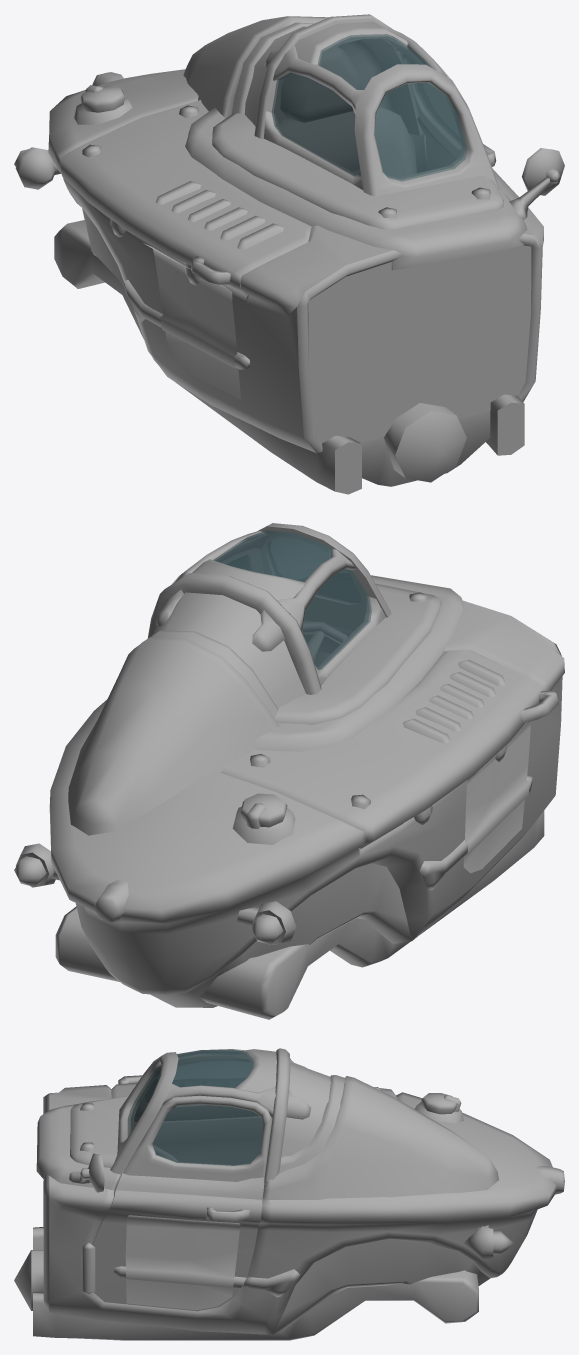
The model's file is Body_Airplane.fbx.
3 views of the same model, one above another, from view 1: azimuth 30°, elevation 25°; view 2: azimuth 150°, elevation 25°; view 3: azimuth 270°, elevation 25° (orthographic). The views are drawn at different scales.
Parts seen in each view (by area): view 1: Airplane_Body, Airplane_Body_Window, Airplane_Body_Right_Decal, Airplane_Body_Door_Left, Airplane_Body_Door_Left_Window; view 2: Airplane_Body, Airplane_Body_Window, Airplane_Body_Right_Decal, Airplane_Body_SteerWheel; view 3: Airplane_Body, Airplane_Body_Door_Left, Airplane_Body_Door_Left_Decal, Airplane_Body_Door_Left_Window, Airplane_Body_Window.
Boxes of the visible parts, <box> form: Airplane_Body: <box>14,14,564,494</box>; Airplane_Body_Window: <box>271,34,467,181</box>; Airplane_Body_Right_Decal: <box>144,243,240,399</box>; Airplane_Body_Door_Left: <box>399,48,518,200</box>; Airplane_Body_Door_Left_Window: <box>408,57,461,143</box>; Airplane_Body: <box>14,523,564,1019</box>; Airplane_Body_Window: <box>213,530,371,669</box>; Airplane_Body_Right_Decal: <box>463,721,530,873</box>; Airplane_Body_SteerWheel: <box>302,622,347,659</box>; Airplane_Body: <box>14,1048,564,1340</box>; Airplane_Body_Door_Left: <box>92,1095,272,1311</box>; Airplane_Body_Door_Left_Decal: <box>125,1215,240,1310</box>; Airplane_Body_Door_Left_Window: <box>152,1104,263,1165</box>; Airplane_Body_Window: <box>127,1049,254,1136</box>.
Bounding box in the file's own units: 164 × 156 × 279.
